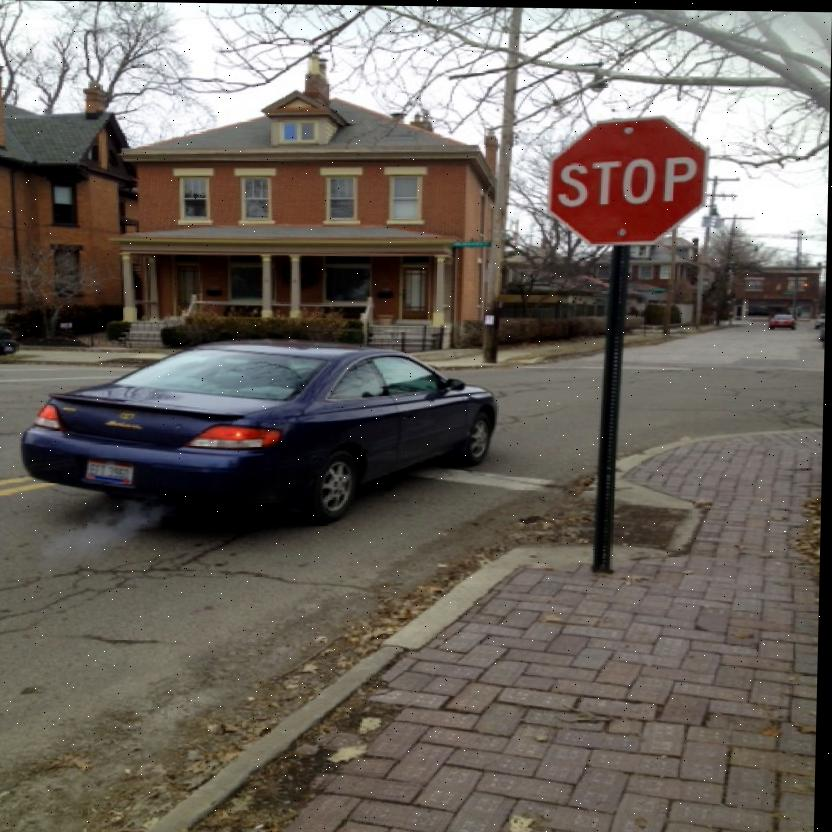Pole: (592, 242, 639, 576)
Sign: (551, 116, 708, 242)
